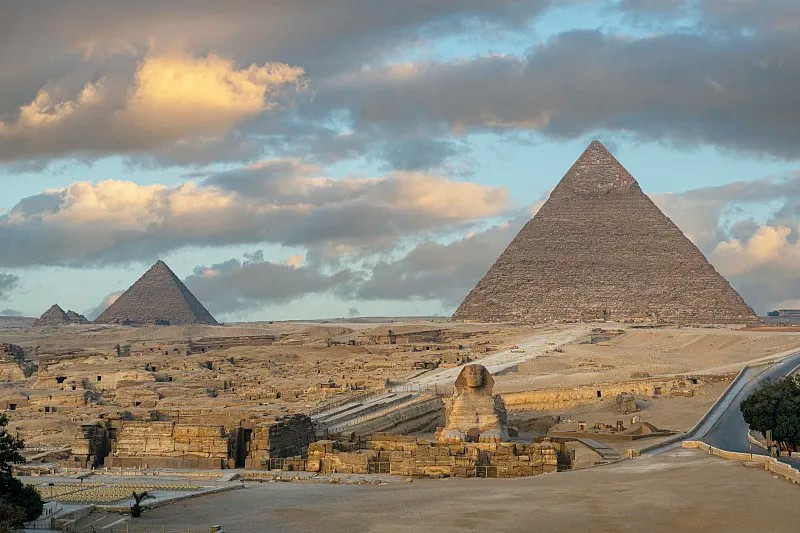Pyramid: (452, 140, 762, 322), (94, 261, 219, 325)
